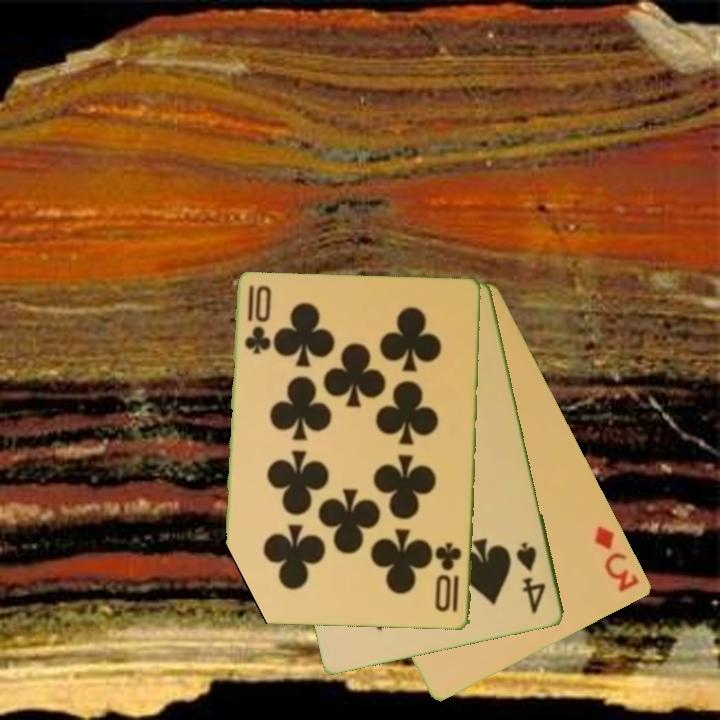10c: (433, 539, 465, 615), (242, 282, 272, 357)
3d: (591, 522, 643, 595)
4s: (513, 538, 549, 617)
